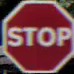Stop: (2, 1, 68, 70)
